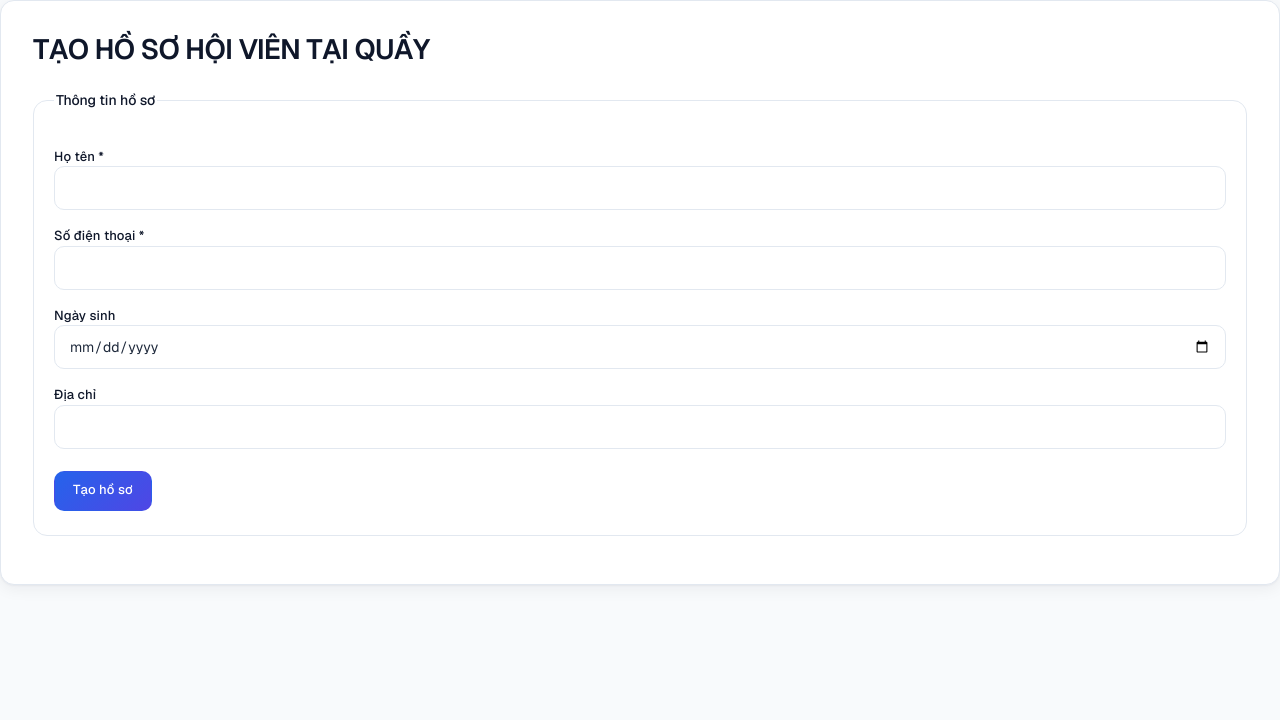
Scenario: US-09 AC04 / TC15: separate create/link with recoverable intentions › prevents double submit and displays the server member code without automatically searching or linking
Type "Hội viên mới" into the field labelled "Họ tên *" at (640, 188), box [54,166,1226,210]
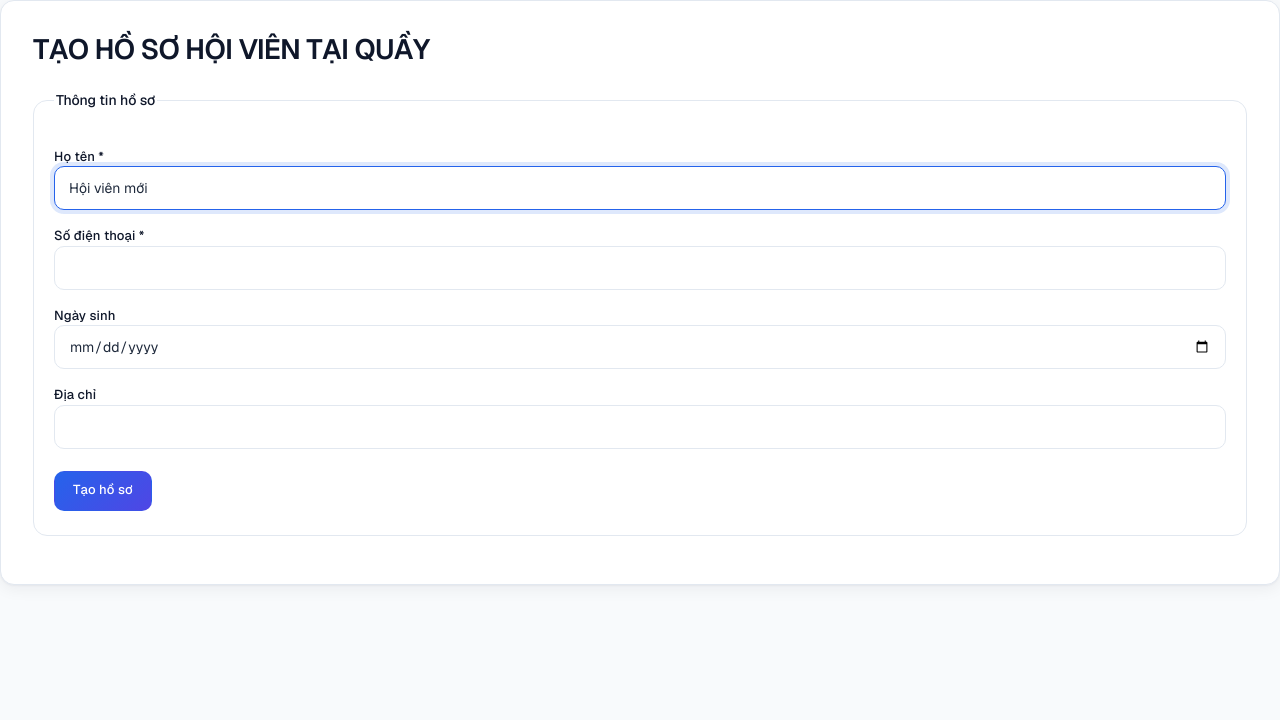
Type "0901234567" into the field labelled "Số điện thoại *" at (640, 268), box [54,246,1226,290]
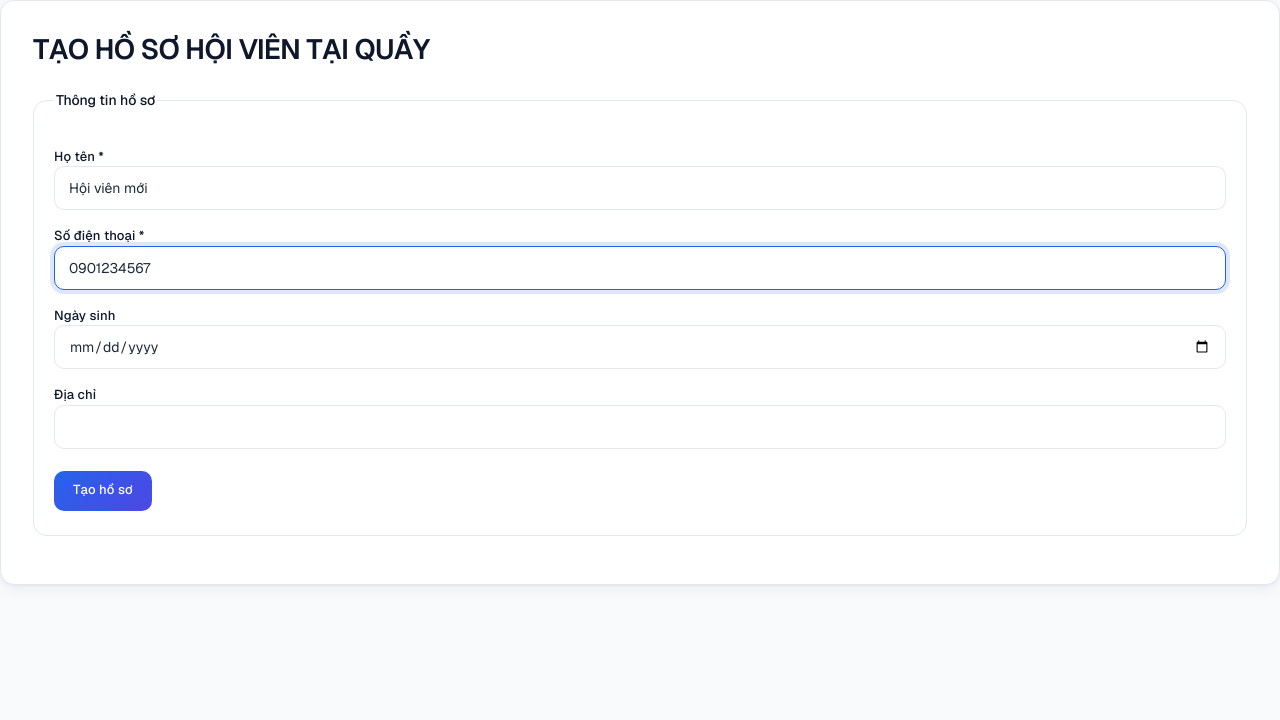
Click the button "Tạo hồ sơ" at (103, 491), box [54,471,152,511]
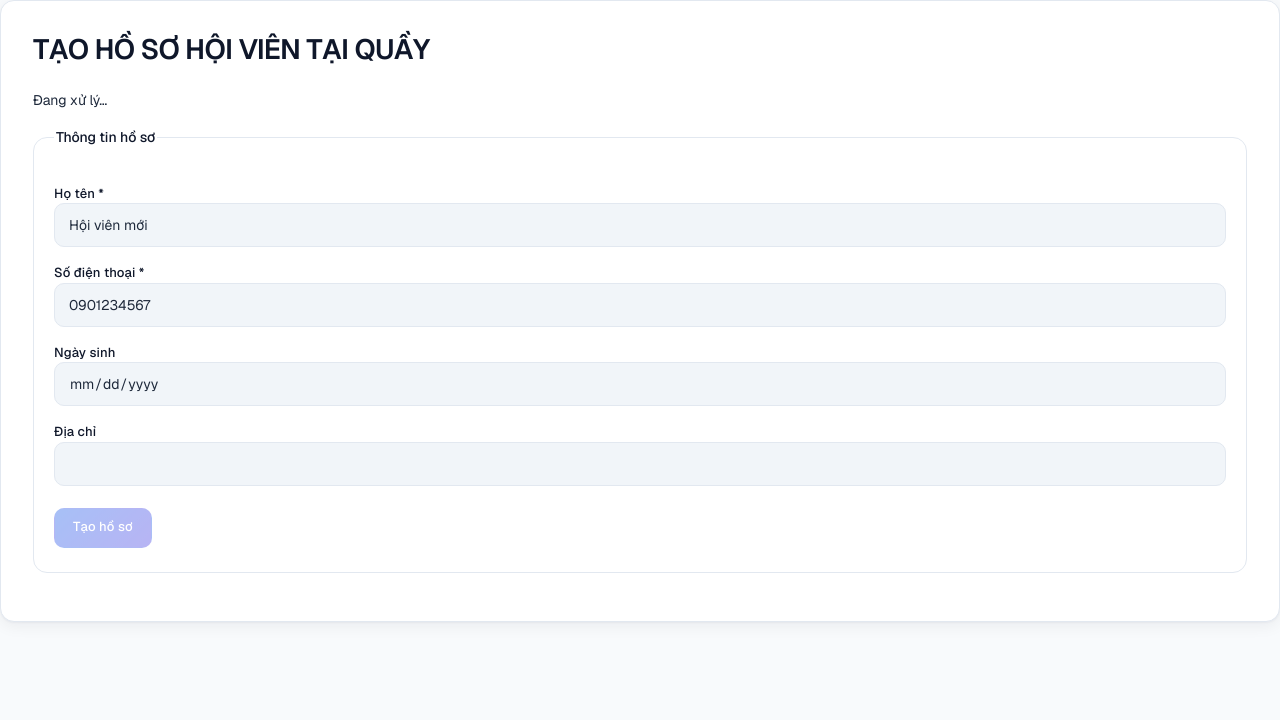
Click the button "Tạo hồ sơ" at (103, 528), box [54,508,152,548]
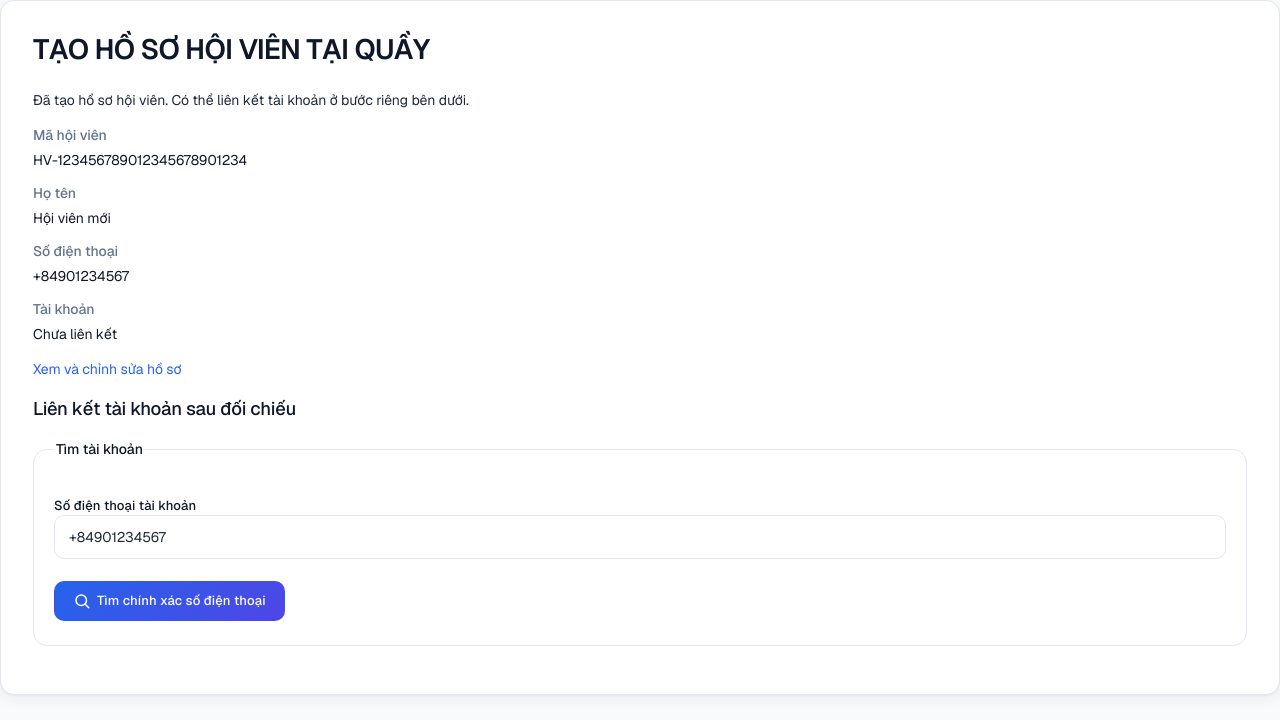
Check: the text "HV-123456789012345678901234" is shown, box [33,151,247,169]
